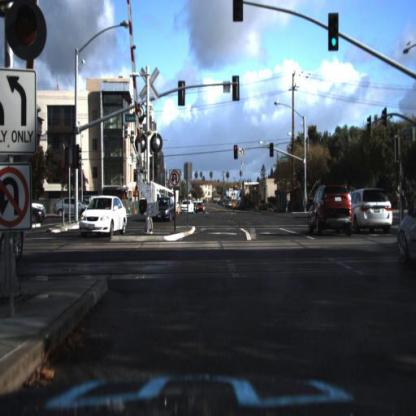biker: (286, 199, 290, 214)
car: (305, 180, 354, 242), (352, 181, 395, 239), (78, 196, 131, 238), (396, 193, 414, 263), (152, 196, 179, 224), (150, 198, 175, 223), (179, 198, 195, 216), (197, 202, 207, 216), (198, 204, 207, 217)
trafficLight: (8, 4, 53, 69), (328, 13, 340, 51), (232, 1, 244, 25), (233, 140, 240, 162), (269, 140, 276, 158)
trafficLight-Green: (300, 163, 306, 183)
